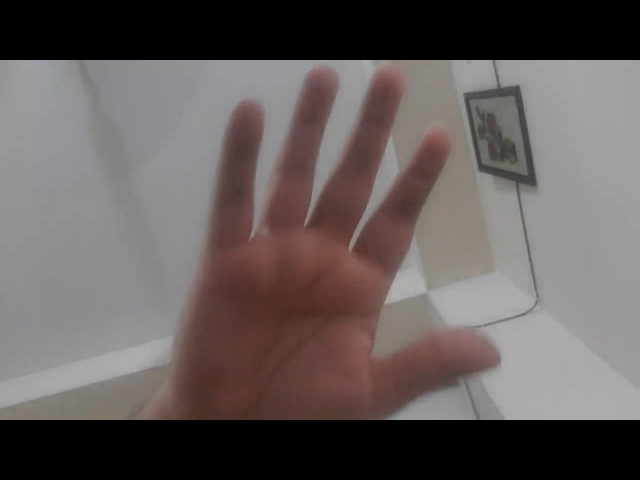Hello: (141, 63, 509, 415)
